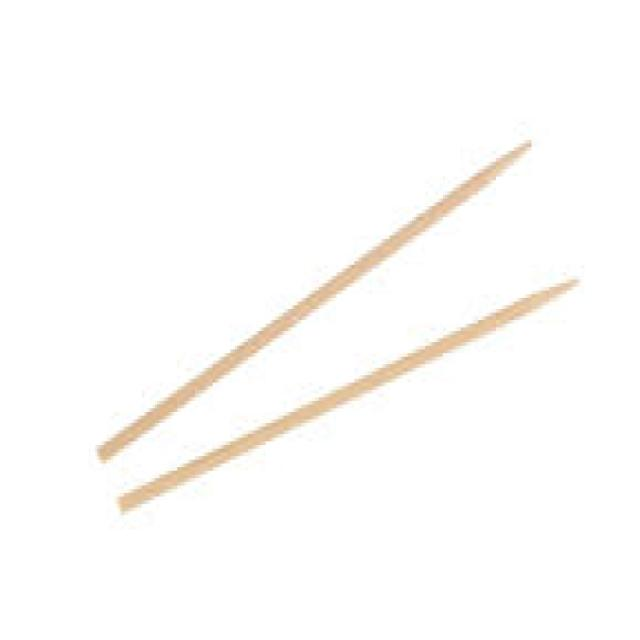stick: (98, 144, 531, 462), (119, 281, 576, 512)
